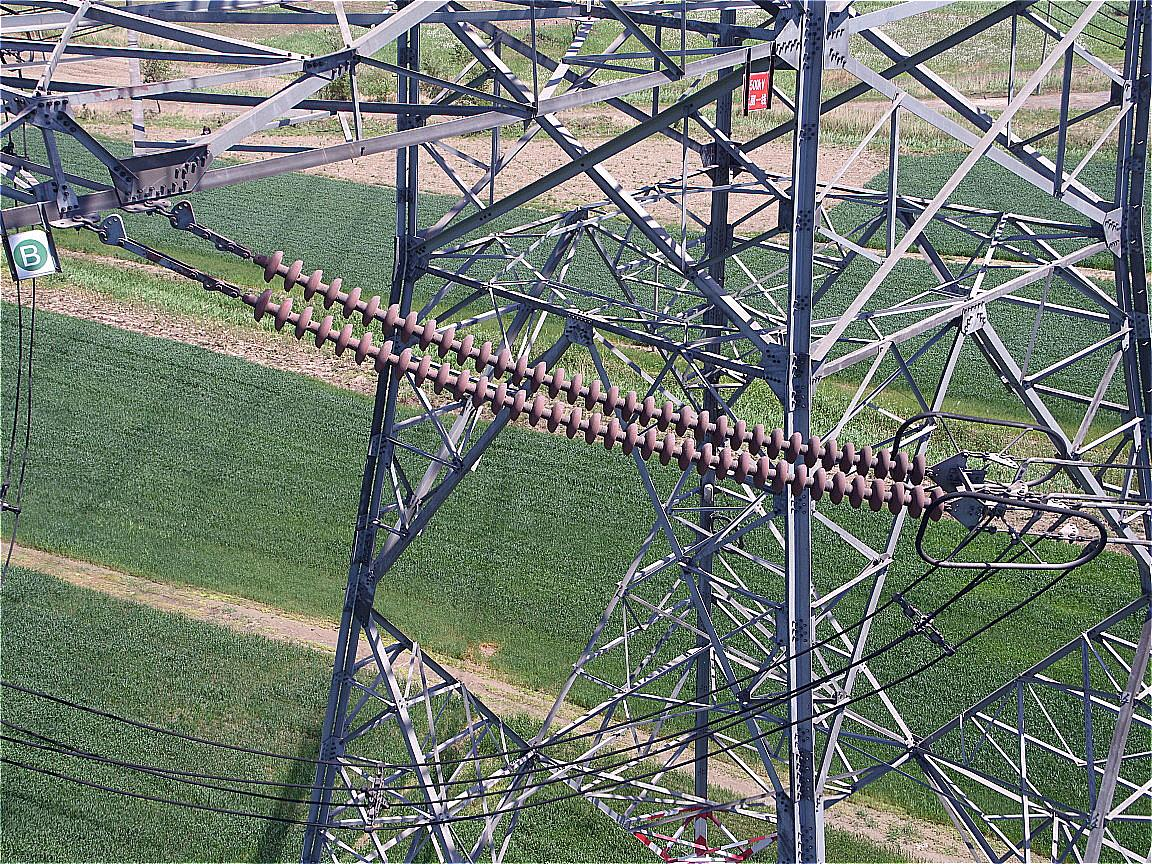insultor1: (251, 248, 945, 519)
